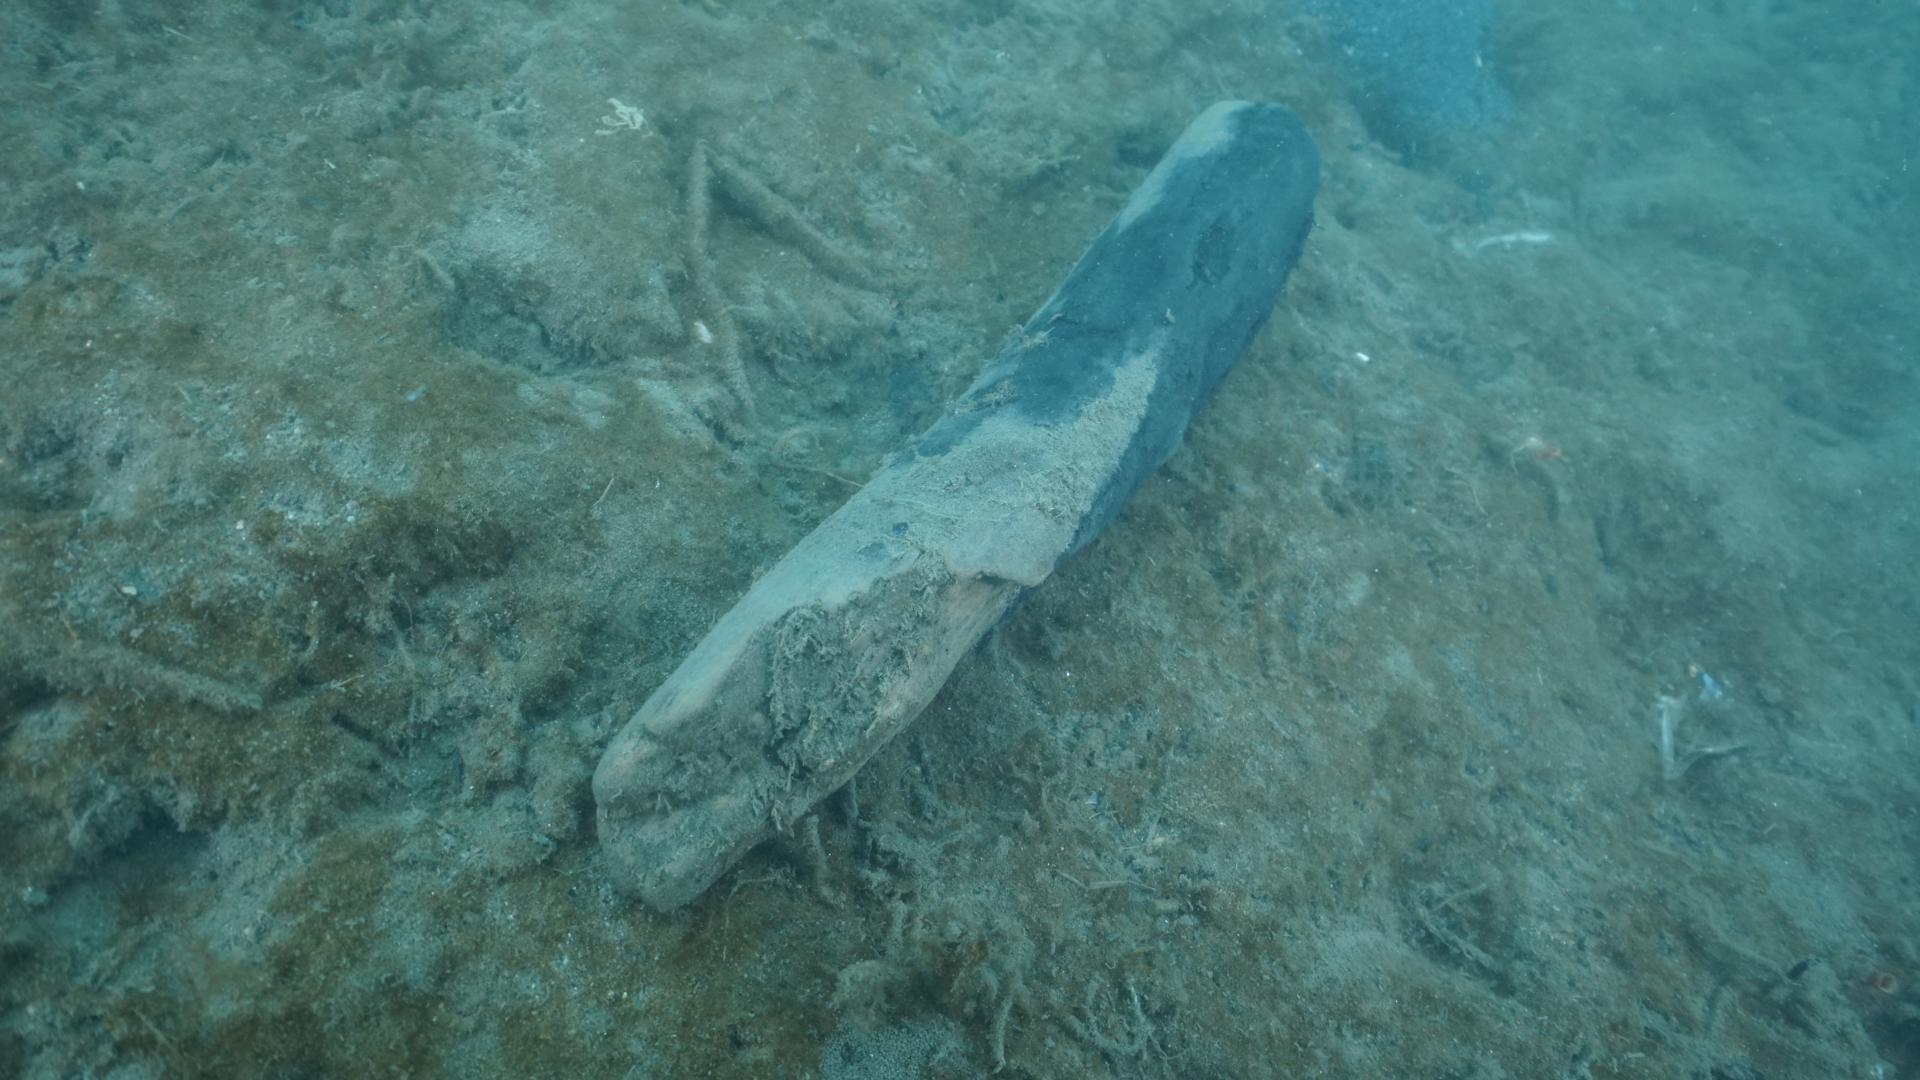wood: (585, 94, 1331, 920)
